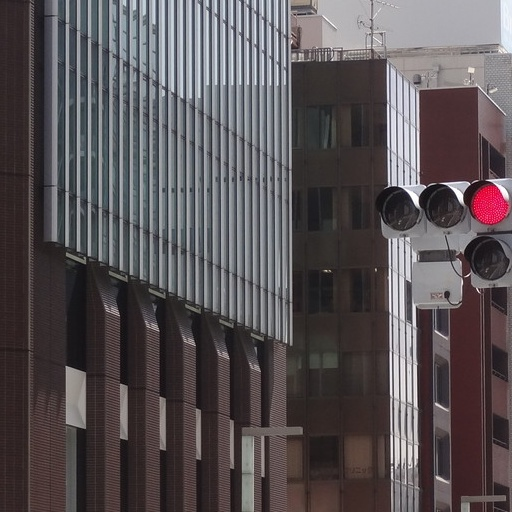Traffic_Signal_Red: (369, 178, 511, 238)
